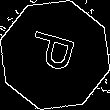P_E: (26, 30, 84, 80)
